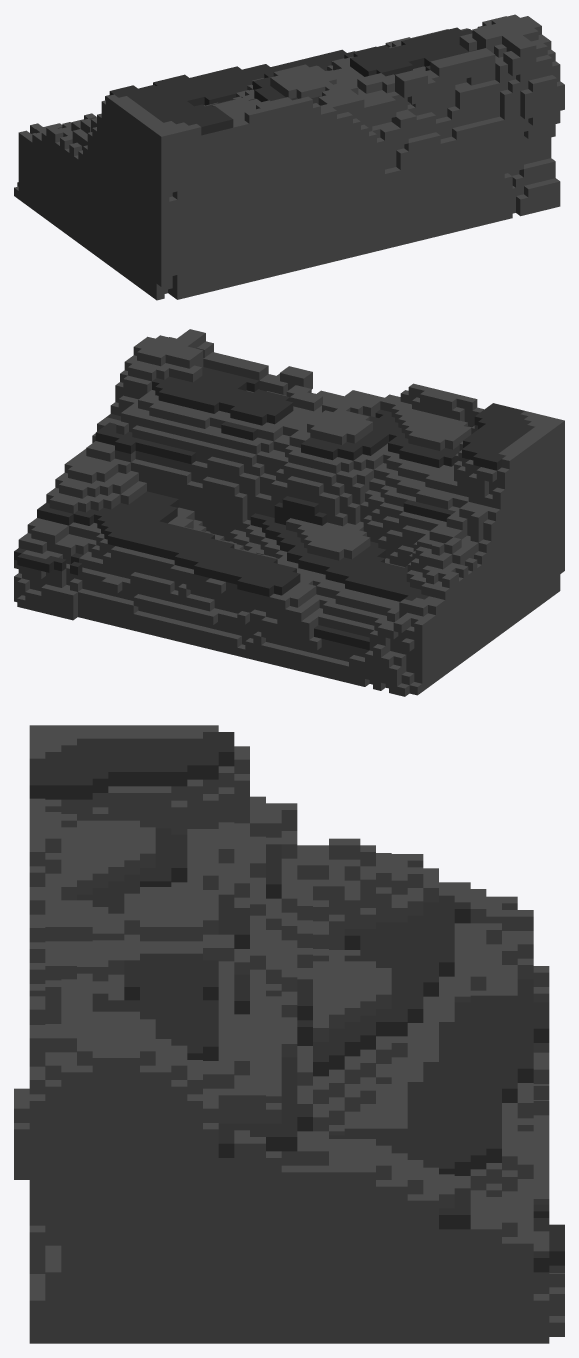
Rendered from Medieval Assets-229-Transition - Hill Straight.obj.
The picture shows the model from 3 angles, top to bottom: view 1: azimuth 30°, elevation 25°; view 2: azimuth 150°, elevation 25°; view 3: azimuth 270°, elevation 25°; orthographic projection. The views are drawn at different scales.
Parts seen in each view (by area): view 1: Transition - Hill Straight; view 2: Transition - Hill Straight; view 3: Transition - Hill Straight.
Part boxes in pixels (x1,y1,x2,y2): Transition - Hill Straight: (14, 14, 564, 300); Transition - Hill Straight: (14, 329, 564, 696); Transition - Hill Straight: (14, 725, 564, 1343).
Bounding box in the file's own units: 5 × 2 × 3.5.
Materials: 1 (1 with a texture image).
